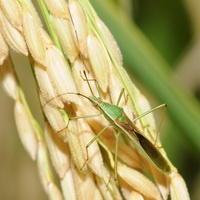insect: (35, 66, 189, 199)
